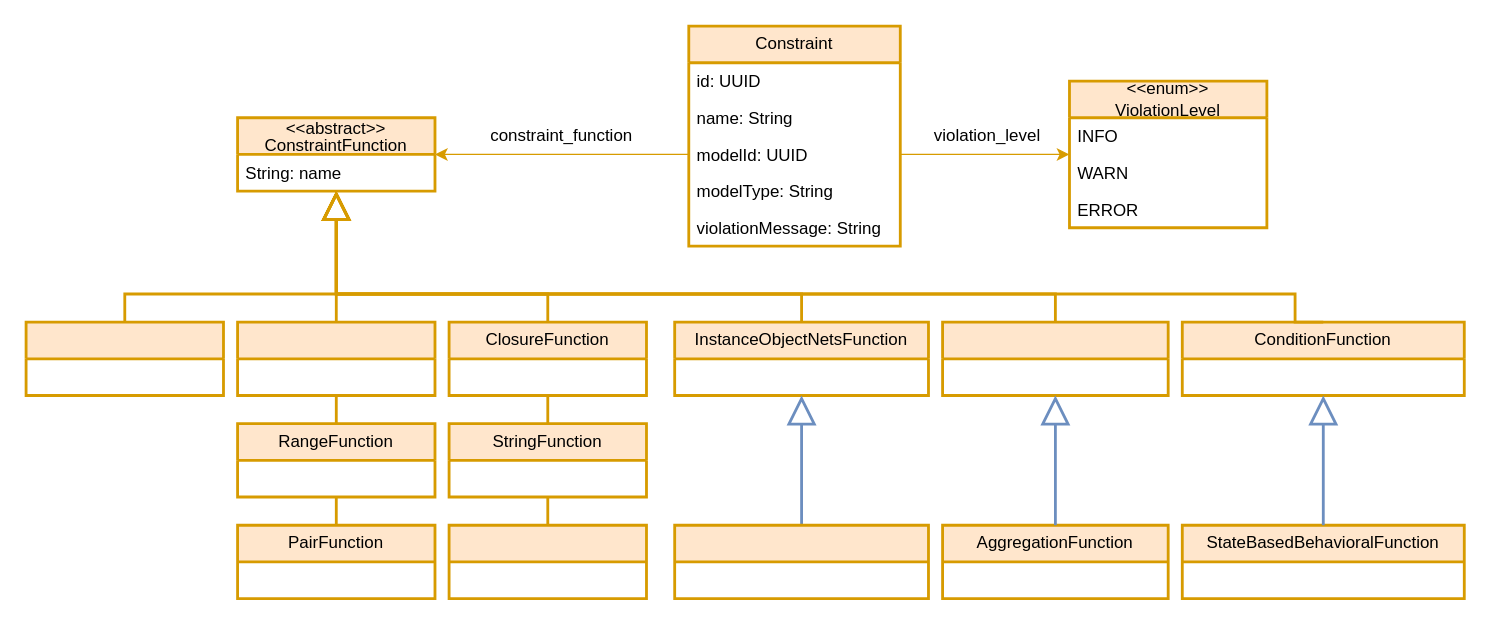
Image size: 1489x626. Some labels were removed from this diagram. Each missing label, with the centre of its shape:
"AssociationFunction" goes at pixel 801 561.
"CollectionFunction" goes at pixel 1054 358.
"LogicalFunction" goes at pixel 335 358.
"RuntimeFunction" goes at pixel 124 358.
"TypeFunction" goes at pixel 547 561.
